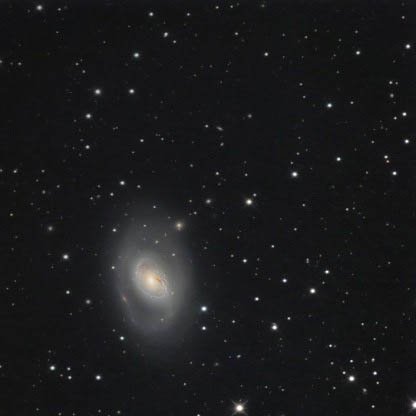Messier 96: (93, 196, 210, 352)
